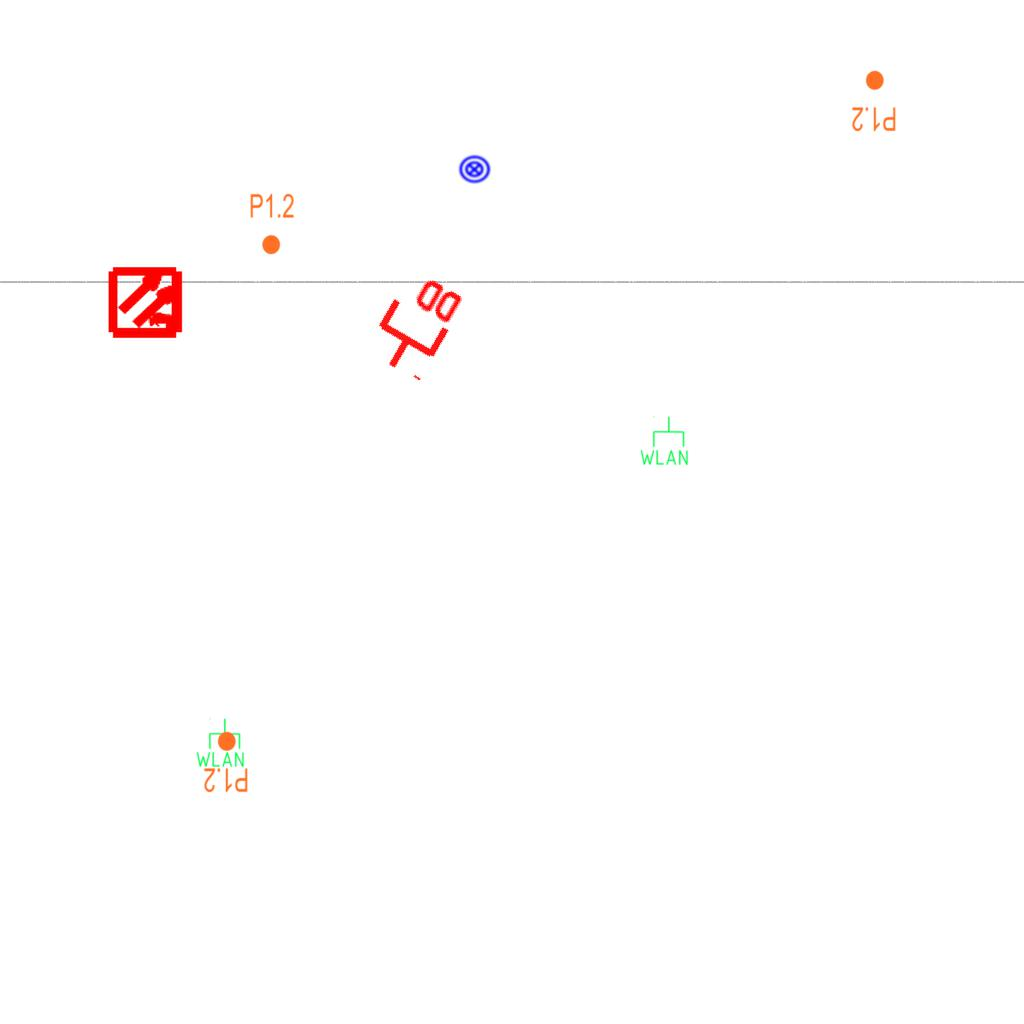Datenanschluss_zweifach: (358, 261, 471, 386)
Downlight_LED_Einbauleuchten_Flur: (249, 192, 295, 256), (851, 69, 897, 133), (203, 730, 249, 794)
OT_Multisensormelder_(Kombination_RMO_WMD): (91, 246, 204, 359)
Taster_beleuchtet: (458, 153, 491, 186)
WLAN: (194, 717, 246, 769), (638, 415, 690, 467)
